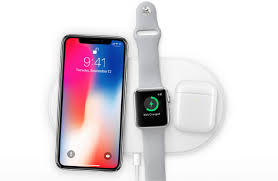iphone: (52, 30, 129, 172)
iphone10: (51, 29, 128, 171)
